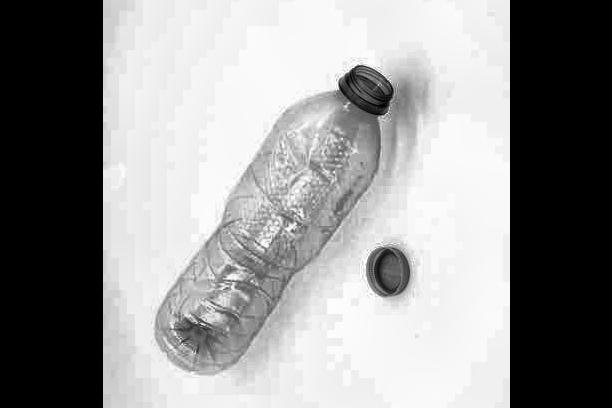waterbottle: (130, 9, 460, 408)
